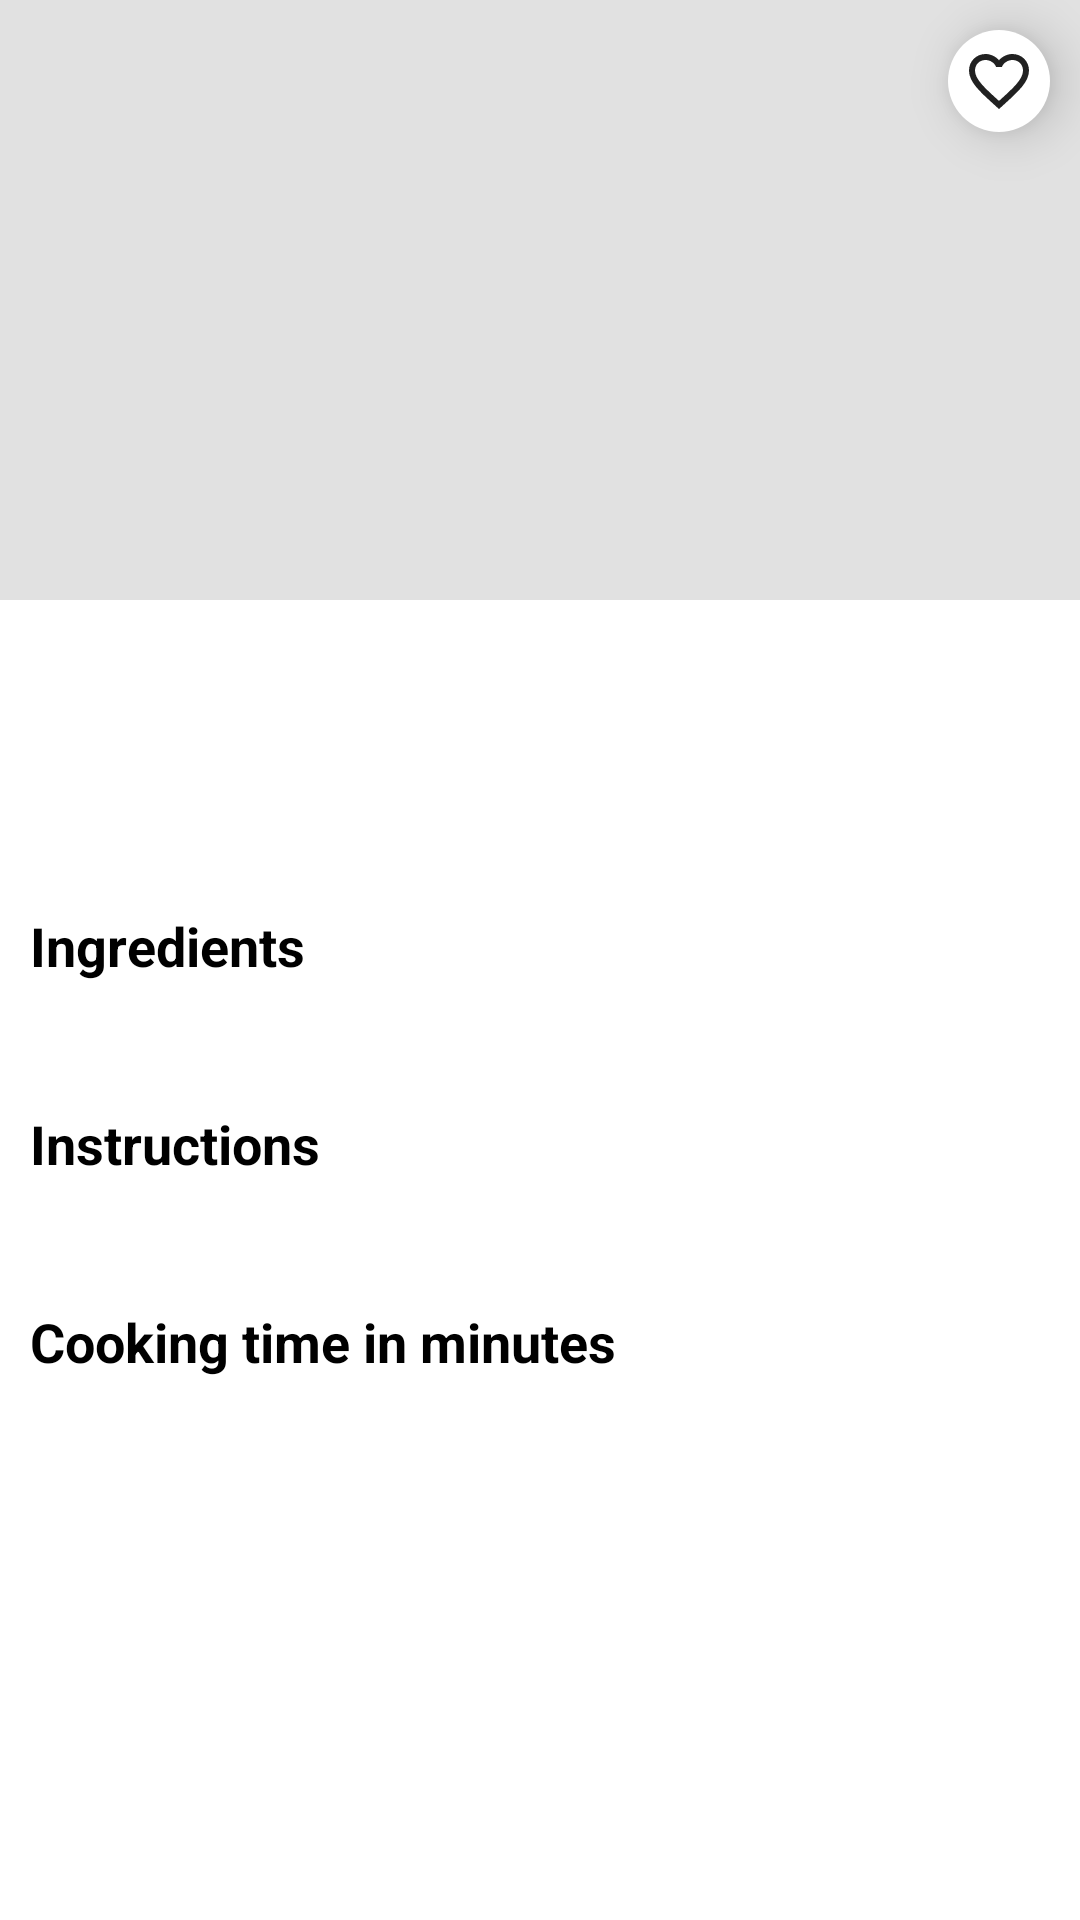

Icon bounding boxes for this 1080*1920 phone screenshot, format bbox=(x1, y1, x2, y2):
favourite: bbox=(969, 54, 1029, 109)
